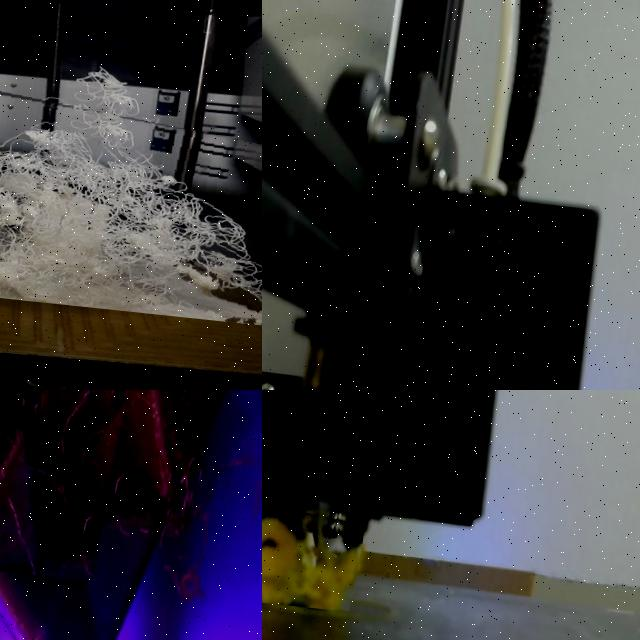spaghetti: (0, 102, 262, 325), (0, 390, 167, 584), (146, 425, 262, 618), (262, 512, 360, 610)
